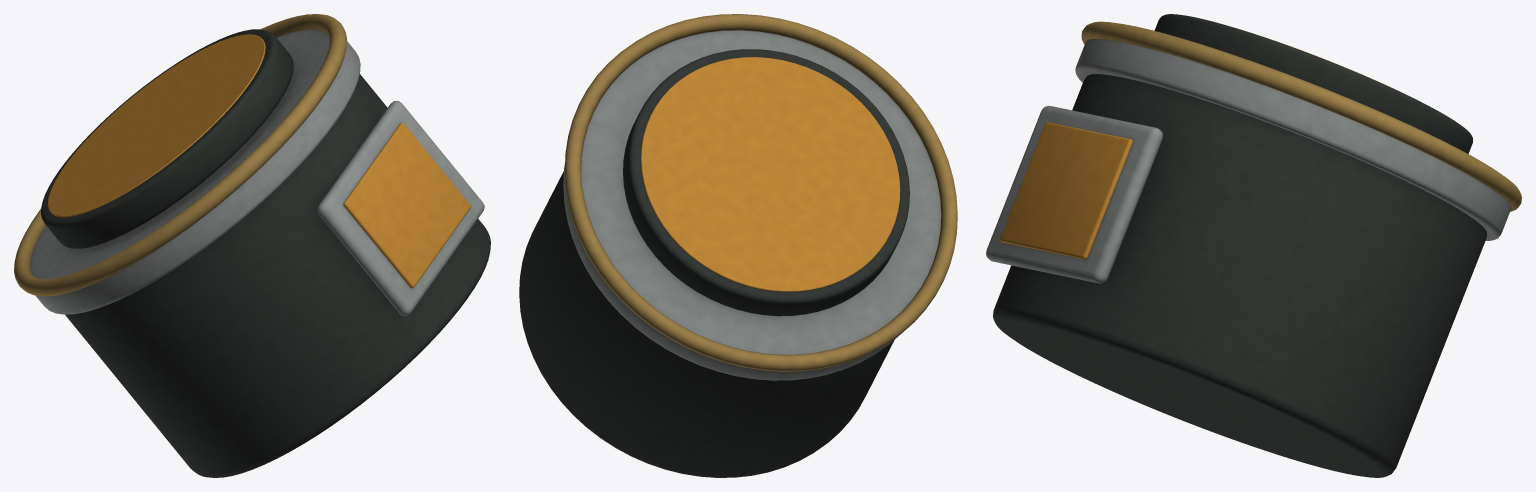
3 renders of one model, left to right at view 1: azimuth 30°, elevation 25°; view 2: azimuth 150°, elevation 25°; view 3: azimuth 270°, elevation 25°, orthographic. The views are drawn at different scales.
Parts seen in each view (by area): view 1: Closed sample vessel; view 2: Closed sample vessel; view 3: Closed sample vessel.
Part boxes in pixels (left/top/right/bottom): Closed sample vessel: left=14, top=14, right=490, bottom=477; Closed sample vessel: left=519, top=14, right=957, bottom=477; Closed sample vessel: left=986, top=14, right=1521, bottom=477.
Bounding box in the file's own units: 1.1 × 1.05 × 1.09.
1 material, 1 textured.
